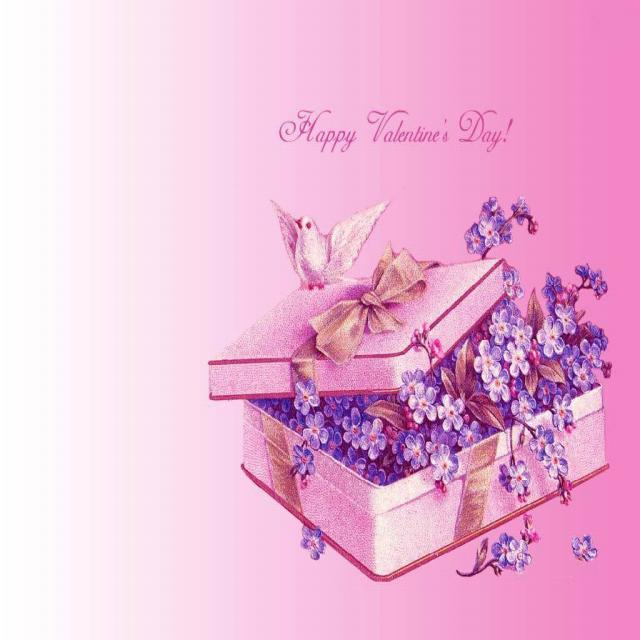Box: (208, 257, 610, 582)
